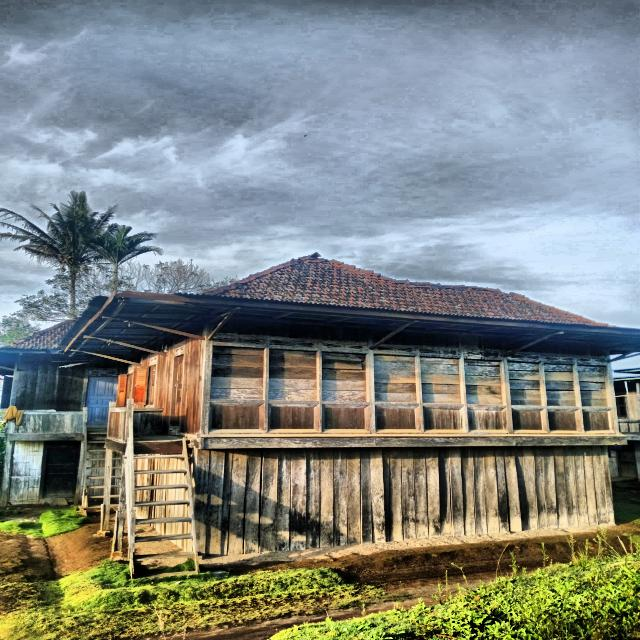door: (39, 441, 82, 498), (84, 376, 118, 428), (174, 356, 184, 427)
ornamen: (208, 403, 265, 433), (267, 403, 319, 432), (322, 404, 371, 432), (375, 405, 421, 433), (467, 407, 509, 433), (423, 406, 465, 432), (511, 408, 548, 433), (547, 409, 583, 433), (582, 409, 616, 433)
roof: (0, 259, 640, 374)
stair: (114, 415, 198, 578), (78, 422, 121, 509)
wall: (195, 445, 615, 558), (208, 324, 615, 435), (9, 441, 84, 504), (15, 360, 86, 411)
window: (209, 345, 265, 400), (269, 348, 318, 400), (321, 351, 367, 401), (373, 354, 418, 403), (420, 356, 461, 404), (464, 359, 503, 405), (508, 361, 542, 406), (544, 363, 577, 406), (577, 365, 608, 407), (131, 364, 156, 405), (116, 372, 133, 408)
